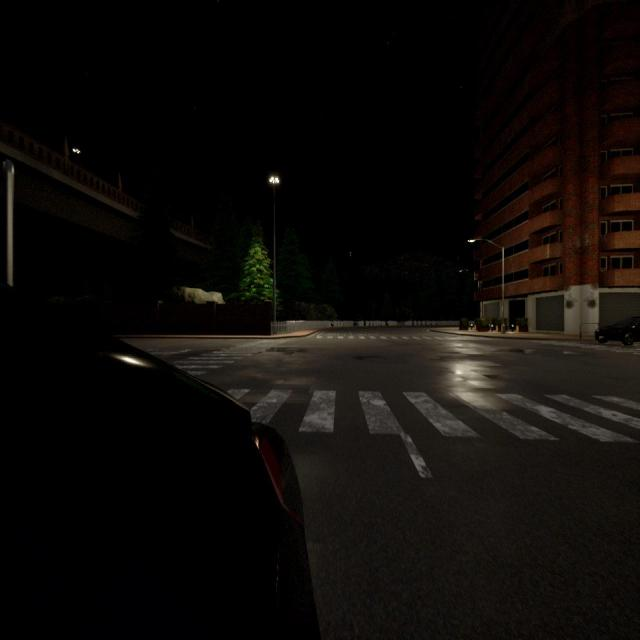Vehicle: (0, 286, 319, 640), (592, 312, 640, 347)
